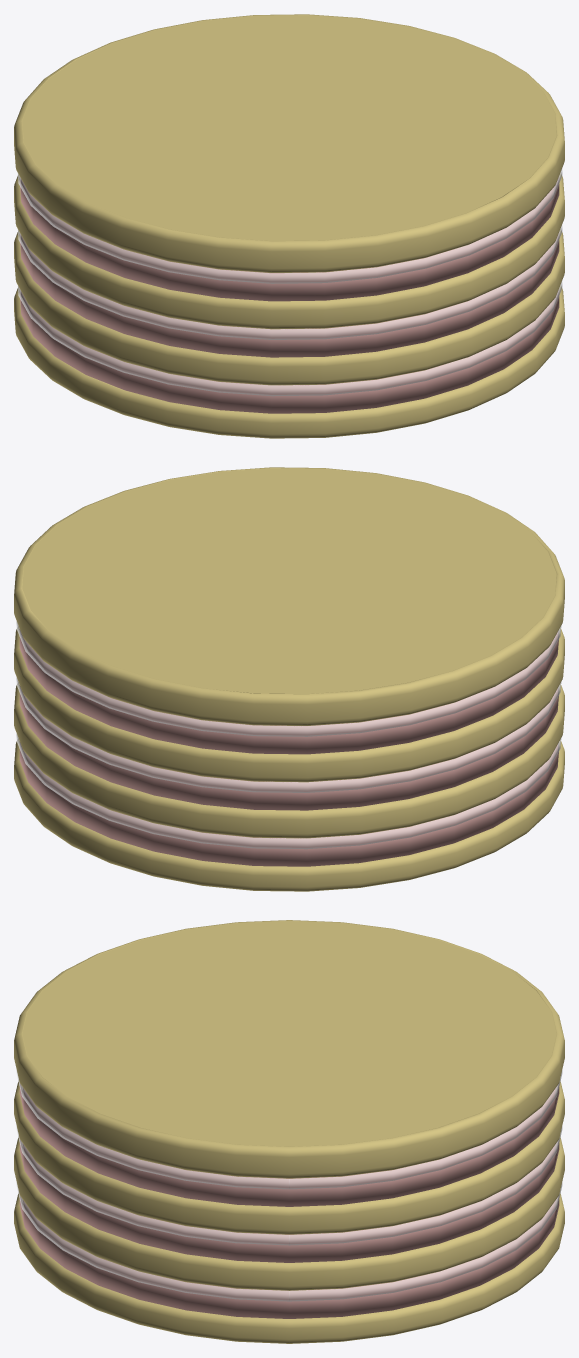
Rendered from tier_14.glb.
3 renders of one model, top to bottom at view 1: azimuth 30°, elevation 25°; view 2: azimuth 150°, elevation 25°; view 3: azimuth 270°, elevation 25°, orthographic.
Visible parts, largest first — view 1: 14_TopCap, 14_Cake, 14_Frosting, 14_Filling; view 2: 14_TopCap, 14_Cake, 14_Frosting, 14_Filling; view 3: 14_TopCap, 14_Cake, 14_Frosting, 14_Filling.
Part boxes in pixels (x1,y1,x2,y2): 14_TopCap: [22, 15, 556, 240]; 14_Cake: [14, 14, 564, 438]; 14_Frosting: [20, 176, 559, 413]; 14_Filling: [17, 168, 562, 396]; 14_TopCap: [22, 468, 556, 693]; 14_Cake: [14, 467, 564, 891]; 14_Frosting: [19, 629, 558, 866]; 14_Filling: [16, 621, 561, 849]; 14_TopCap: [22, 921, 556, 1146]; 14_Cake: [14, 920, 564, 1343]; 14_Frosting: [19, 1084, 559, 1318]; 14_Filling: [16, 1070, 562, 1301].
Size of the model in its own units: 0.3556 by 0.1397 by 0.3556.
